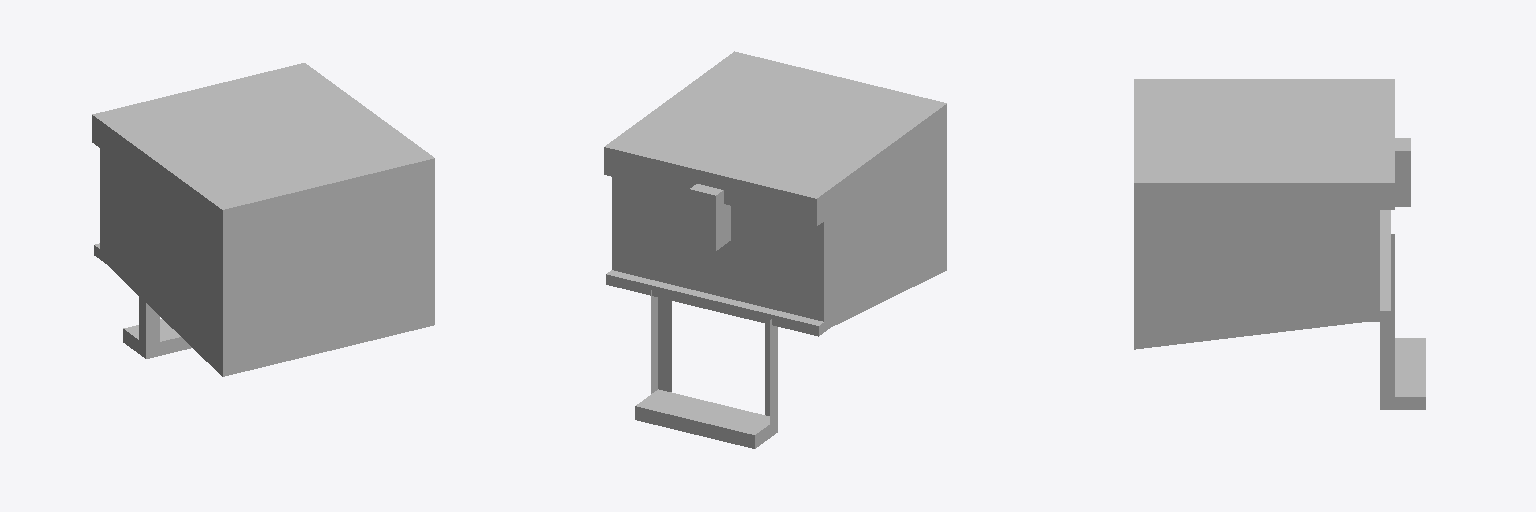
The model's file is freight_nx70_floor_low_ladder.obj.
3 views of the same model, side by side, from view 1: azimuth 30°, elevation 25°; view 2: azimuth 150°, elevation 25°; view 3: azimuth 270°, elevation 25° (orthographic).
Parts seen in each view (by area): view 1: cuboid; view 2: cuboid; view 3: cuboid.
Boxes of the visible parts, x1,y1,x2,y2 form: cuboid: [92, 63, 434, 376]; cuboid: [604, 51, 946, 448]; cuboid: [1134, 79, 1425, 409].
Bounding box in the file's own units: 1 × 1.12 × 1.19.